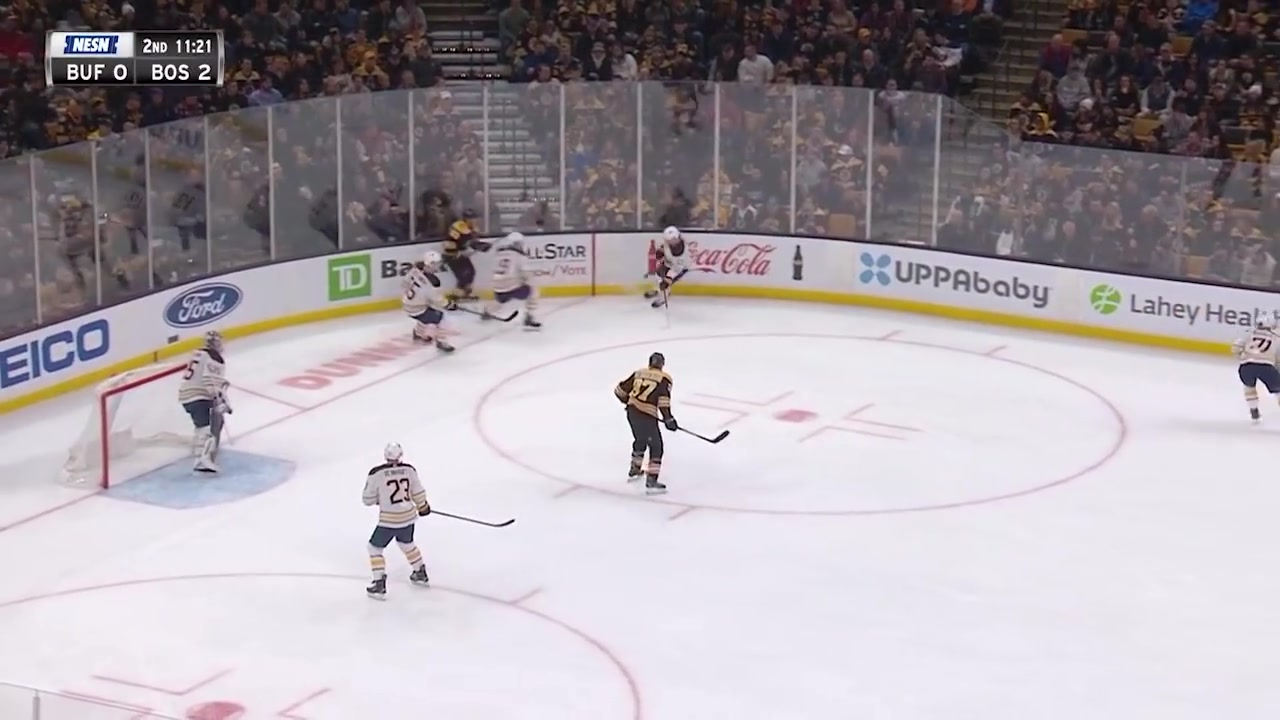Geico: (1, 303, 115, 408)
